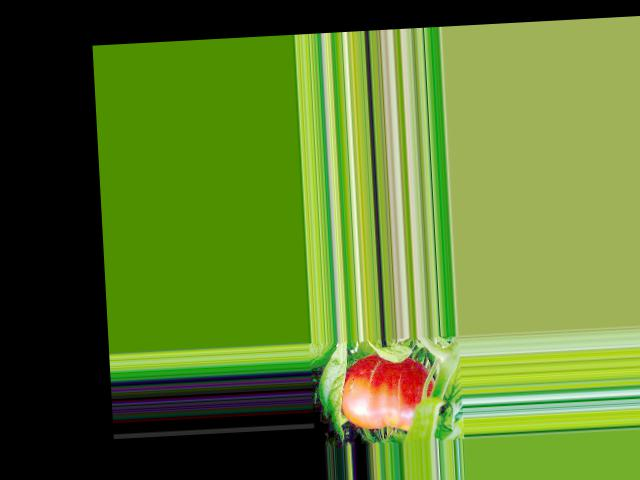tomato: (338, 351, 437, 434)
